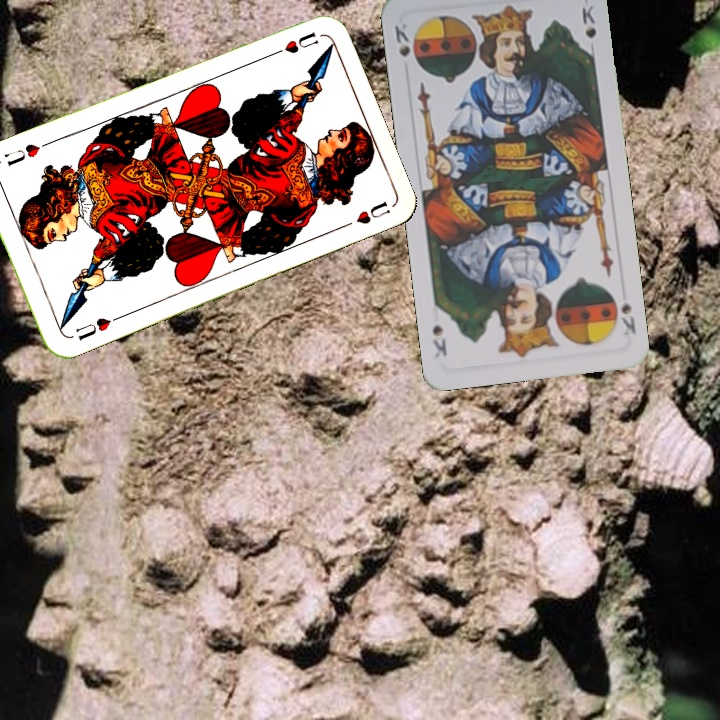HU: (265, 27, 321, 59), (71, 311, 124, 343)
SK: (390, 19, 413, 60), (617, 296, 638, 340)
